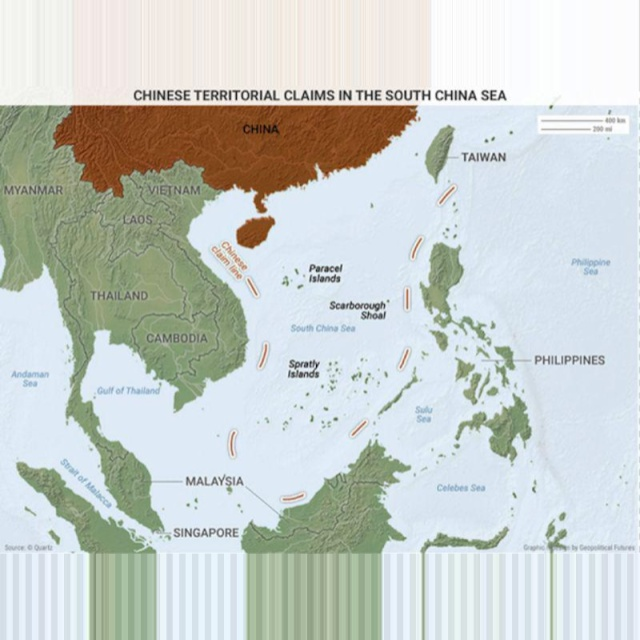Nine Dash Line: (201, 169, 462, 616)
